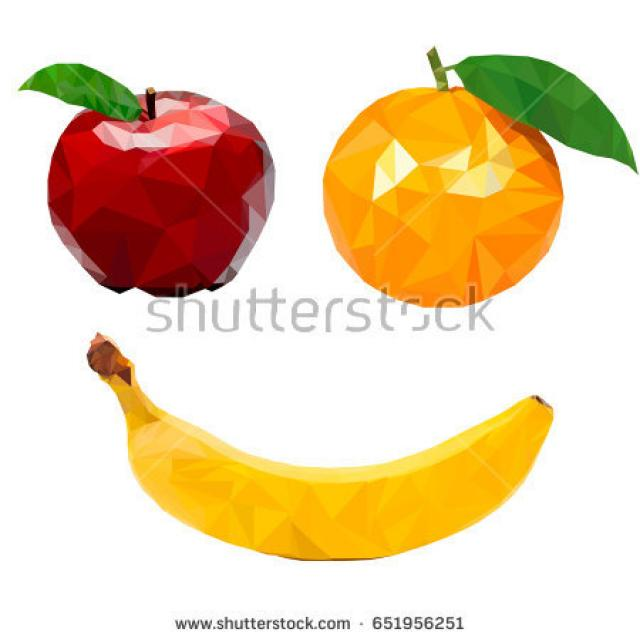apple: (17, 56, 281, 306)
banana: (87, 330, 573, 568)
orange: (322, 44, 640, 316)
